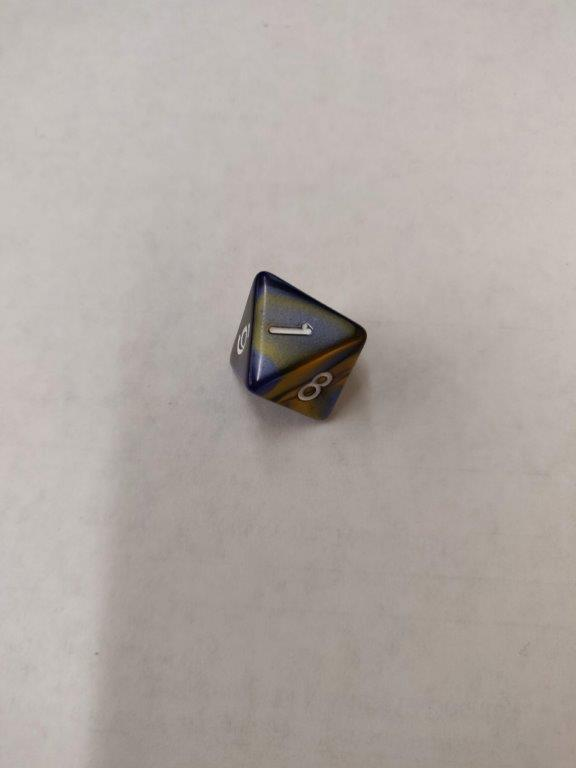d8-1: (226, 270, 370, 422)
